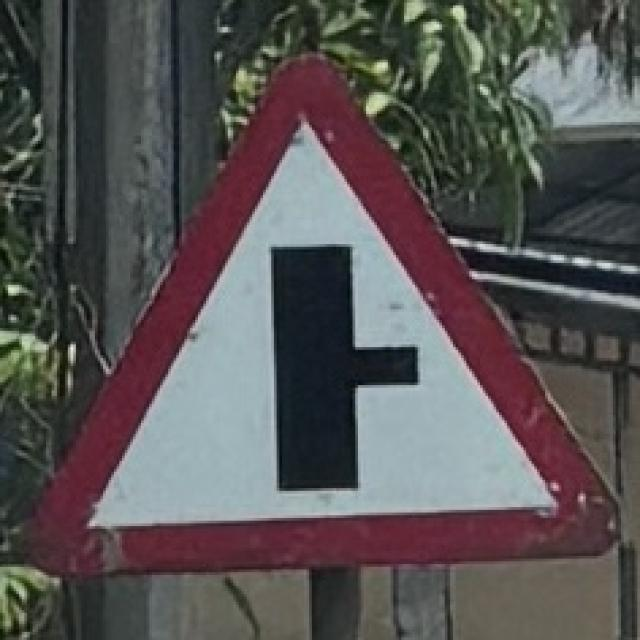SIDE_ROAD_RIGHT: (18, 42, 629, 589)
